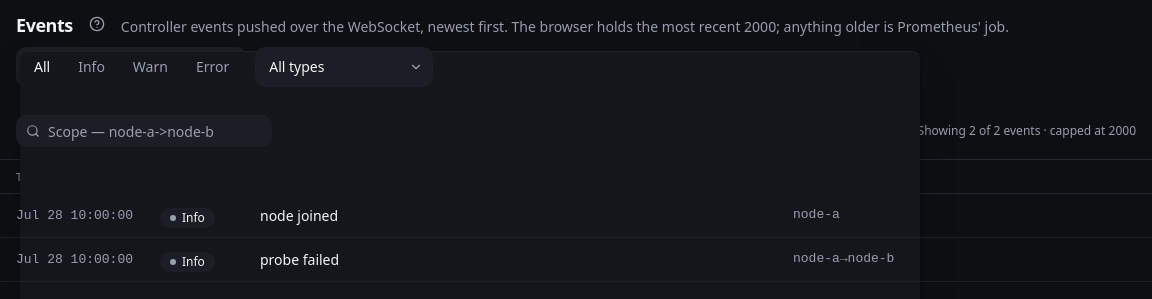
Test: LivePage › narrows the feed with the type filter
This screenshot has width=1152, height=299.
Check: the number of list items is 2, box [0,194,1151,238]; [0,238,1151,282]
Select "Topology changed" in the dropdown named "Type". click: (344, 67)
box: [255,47,433,87]
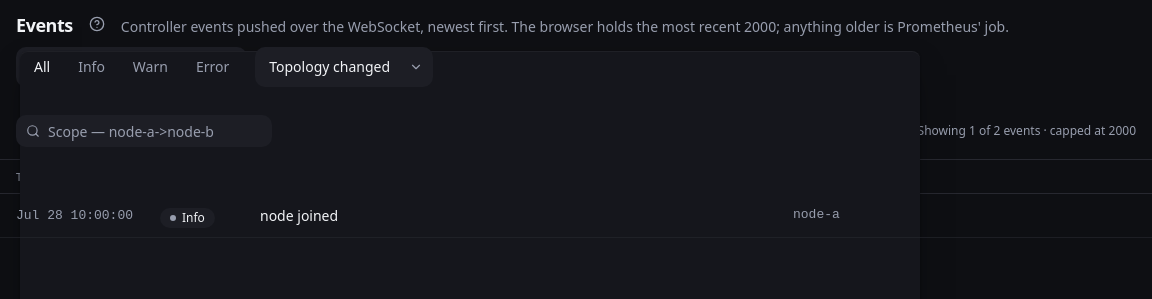
Check: the list item shows "node joined", box [260,206,338,224]
Check: the number of list items is 1, box [0,194,1151,238]
Check: the text "Showing 1 of 2 events · capped at 2000" is shown, box [918,123,1136,139]
